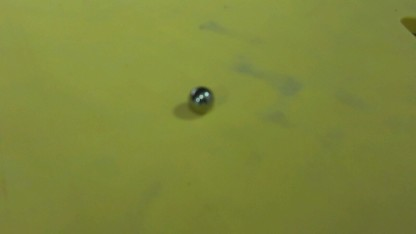ironball: (185, 81, 215, 109)
